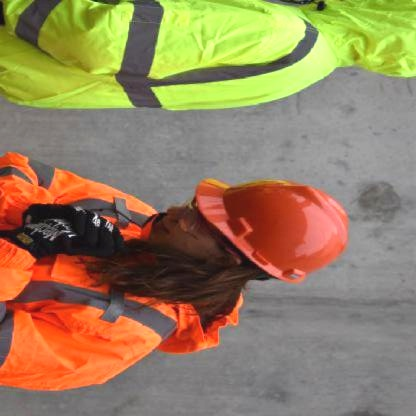red: (191, 158, 352, 293)
vest: (18, 3, 312, 111)
